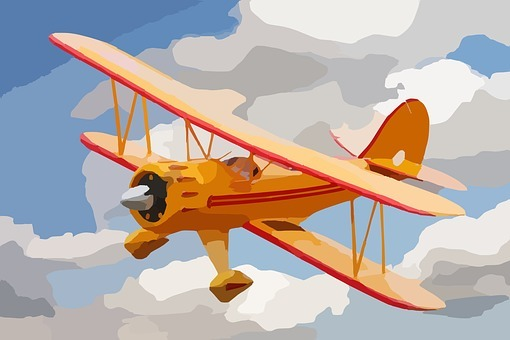aeroplane: (36, 23, 477, 323)
